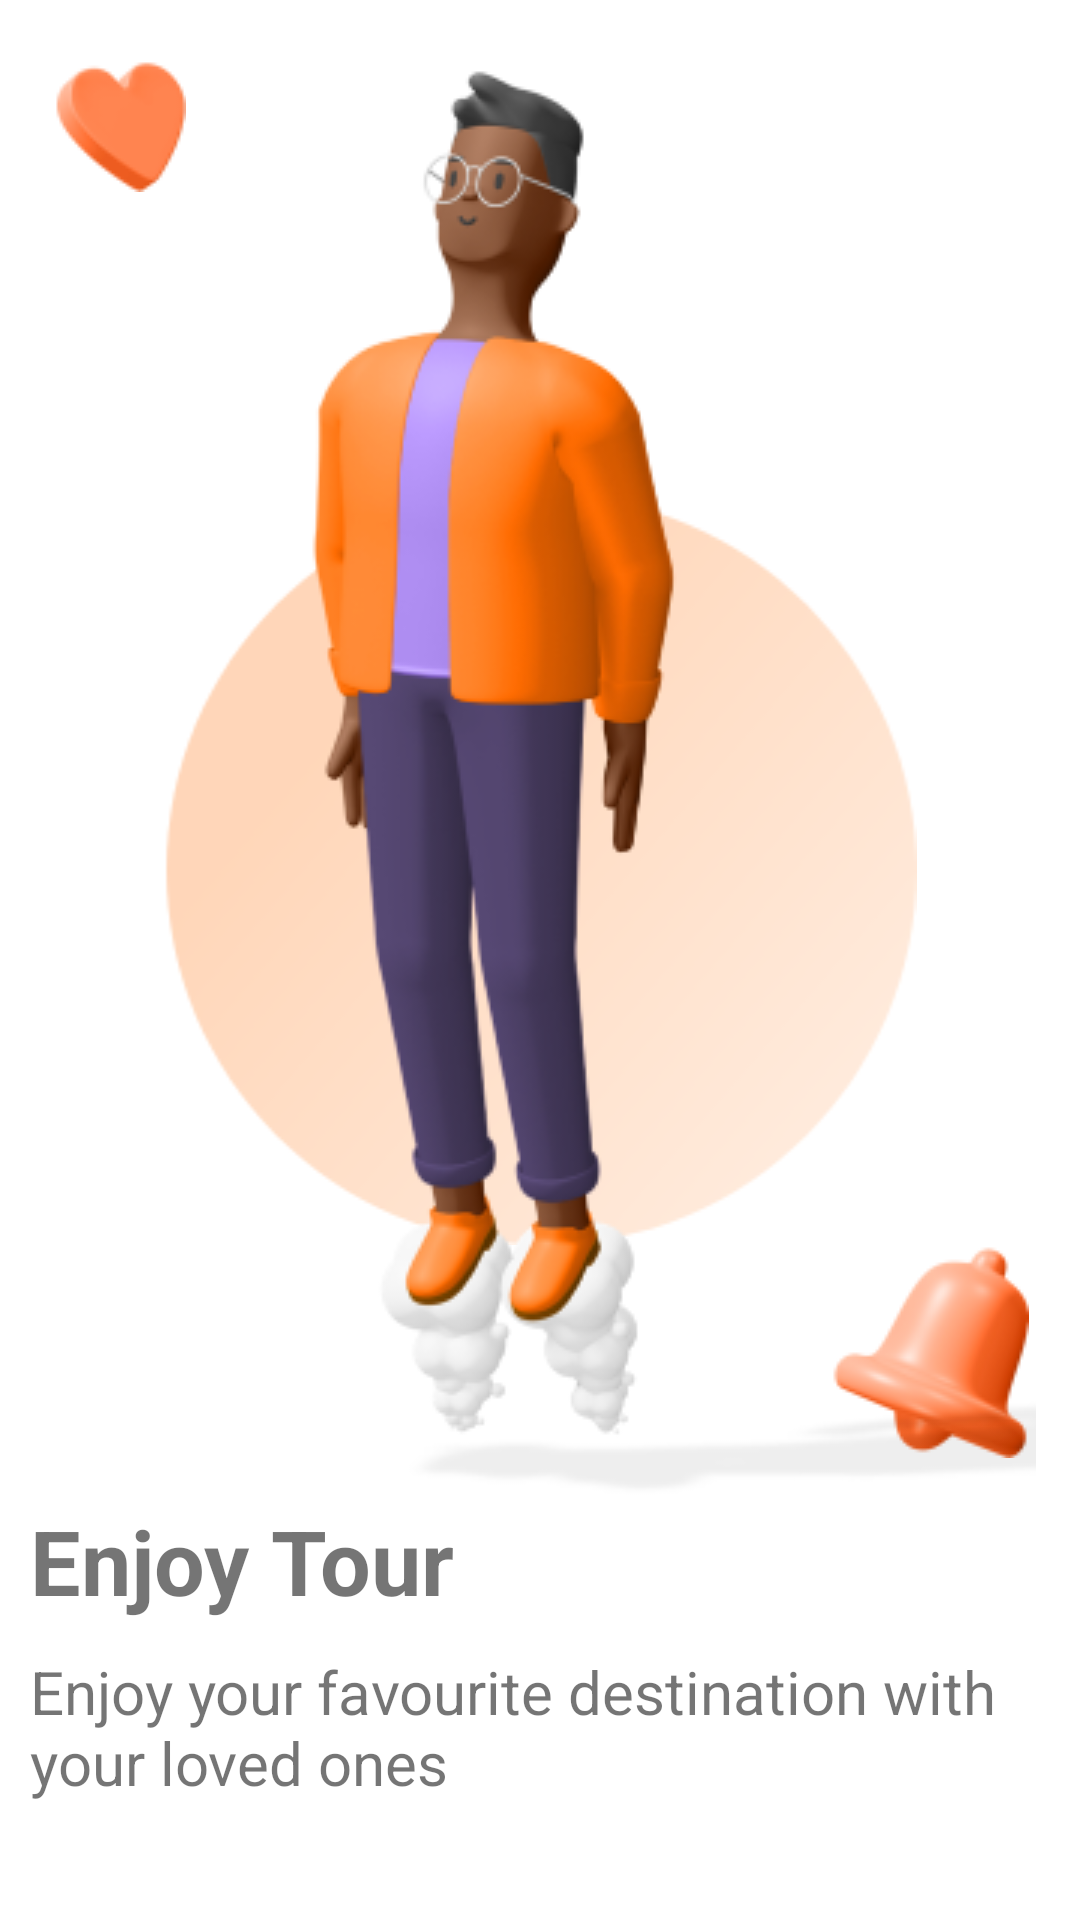

Point at icon controls on the screen. Image size 1080×1920, points as [x,y].
bell: [931,1353]
heart: [121,127]
